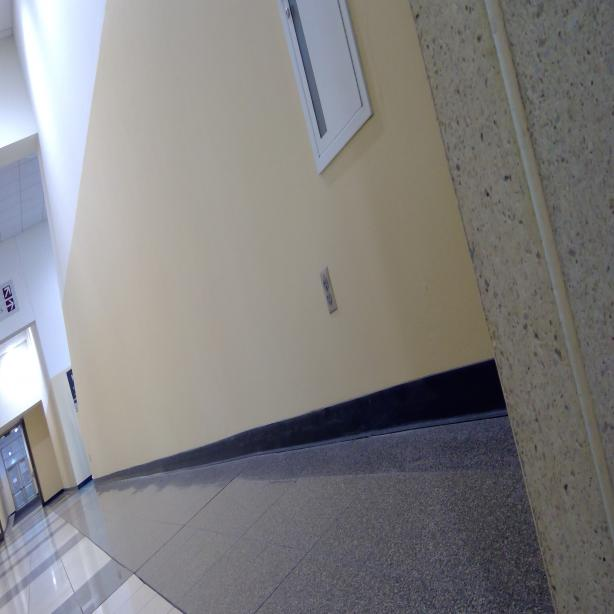typeb: (322, 275, 330, 292), (326, 292, 334, 306)
